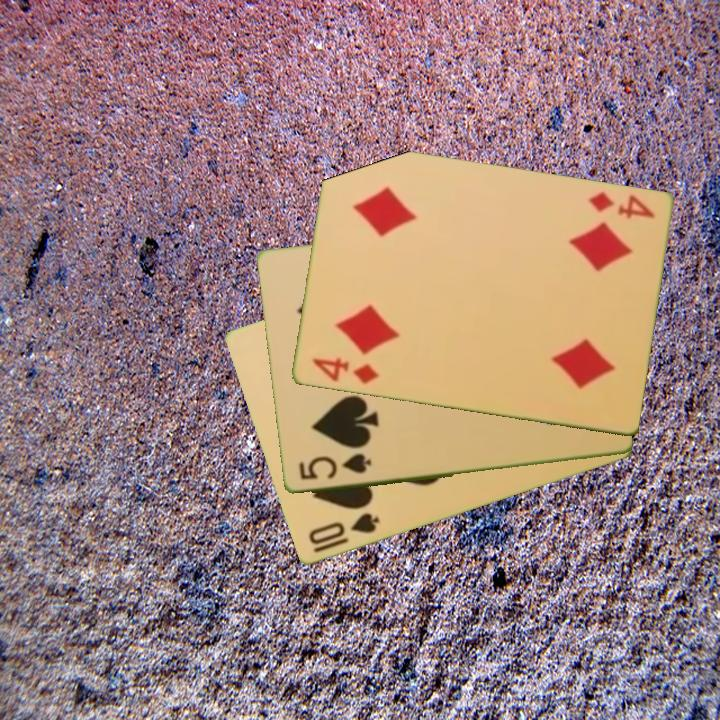10s: (304, 510, 382, 548)
4d: (309, 355, 382, 388), (584, 189, 657, 222)
5s: (295, 450, 374, 483)
